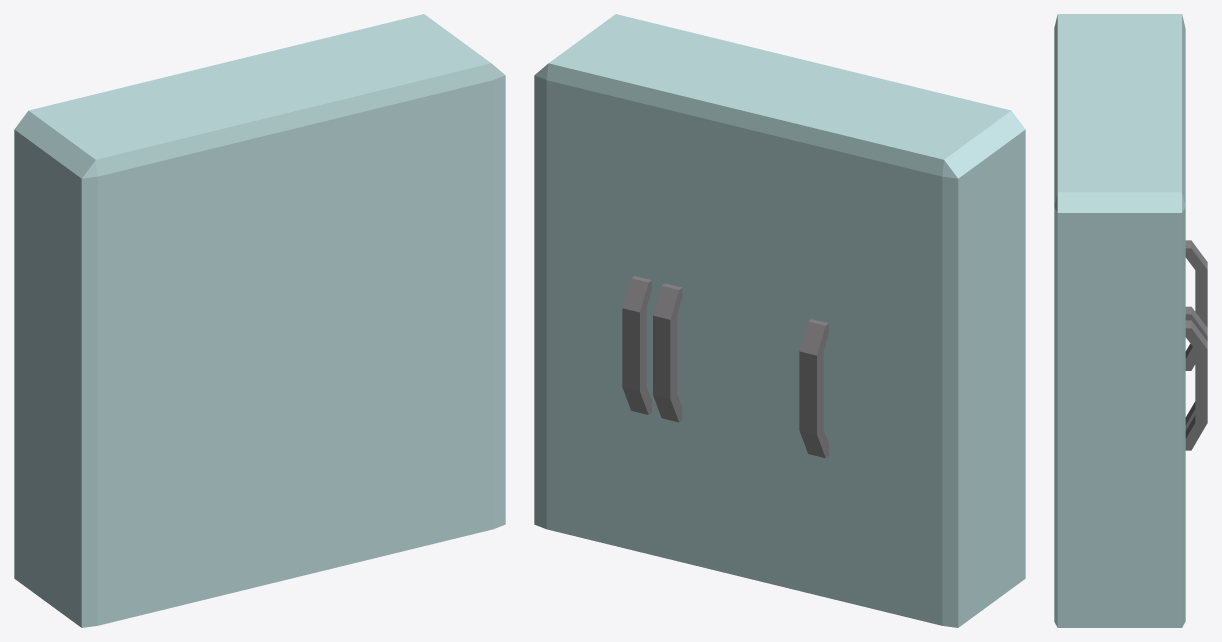
The model's file is freezer.fbx.
3 views of the same model, side by side, from view 1: azimuth 30°, elevation 25°; view 2: azimuth 150°, elevation 25°; view 3: azimuth 270°, elevation 25° (orthographic). The views are drawn at different scales.
Parts seen in each view (by area): view 1: freezer; view 2: freezer; view 3: freezer.
Part boxes in pixels (x1,y1,x2,y2): freezer: (14, 14, 505, 627); freezer: (534, 14, 1025, 627); freezer: (1054, 14, 1207, 627).
Size of the model in its own units: 176 by 184 by 59.61.
